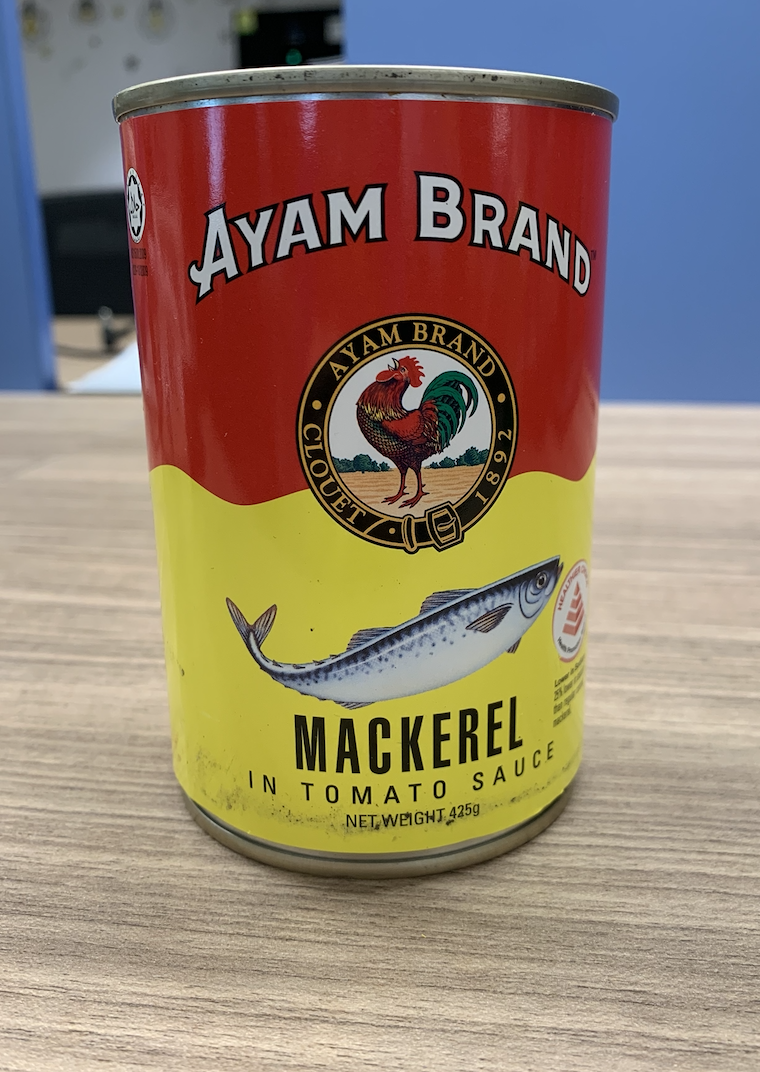sardines_400g-499g: (189, 173, 592, 831)
